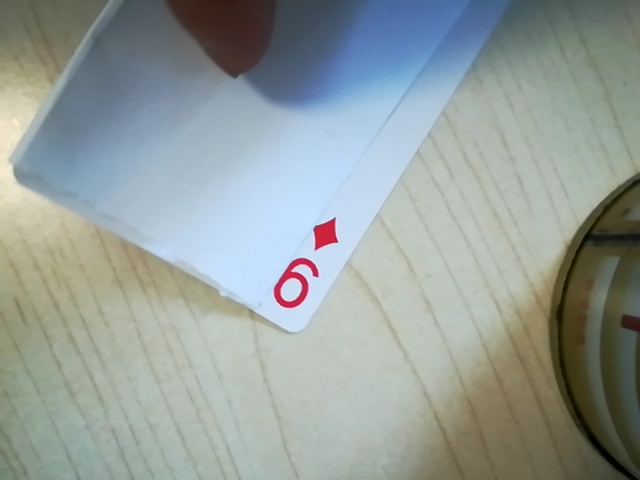fk 9: (261, 213, 342, 317)
